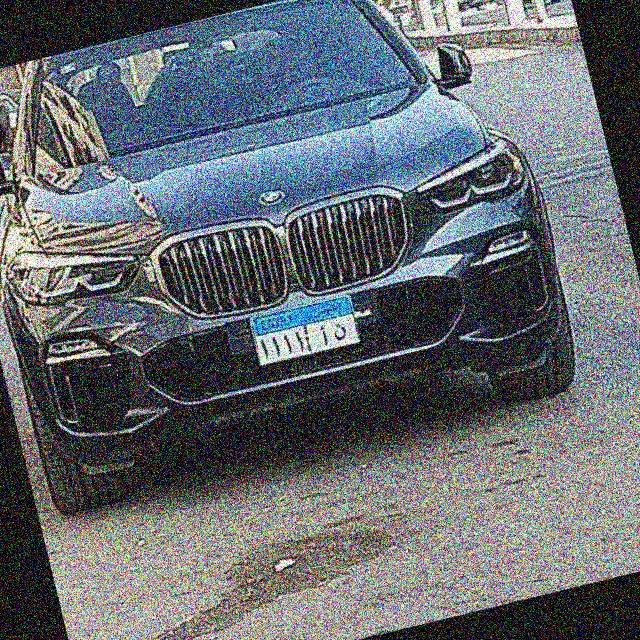License Plate: (248, 293, 363, 367)
